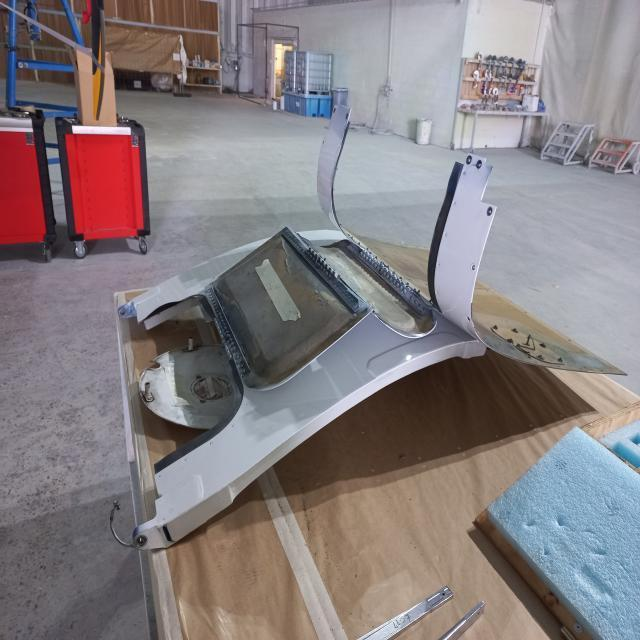Missing Fastener: (482, 206, 494, 218), (473, 156, 482, 170), (469, 260, 478, 274), (464, 154, 472, 168), (465, 314, 473, 324)
